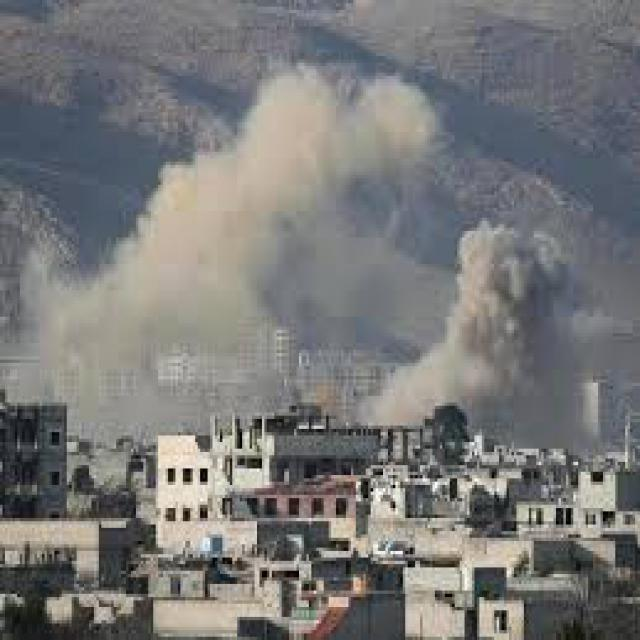Smoke: (70, 58, 613, 415)
